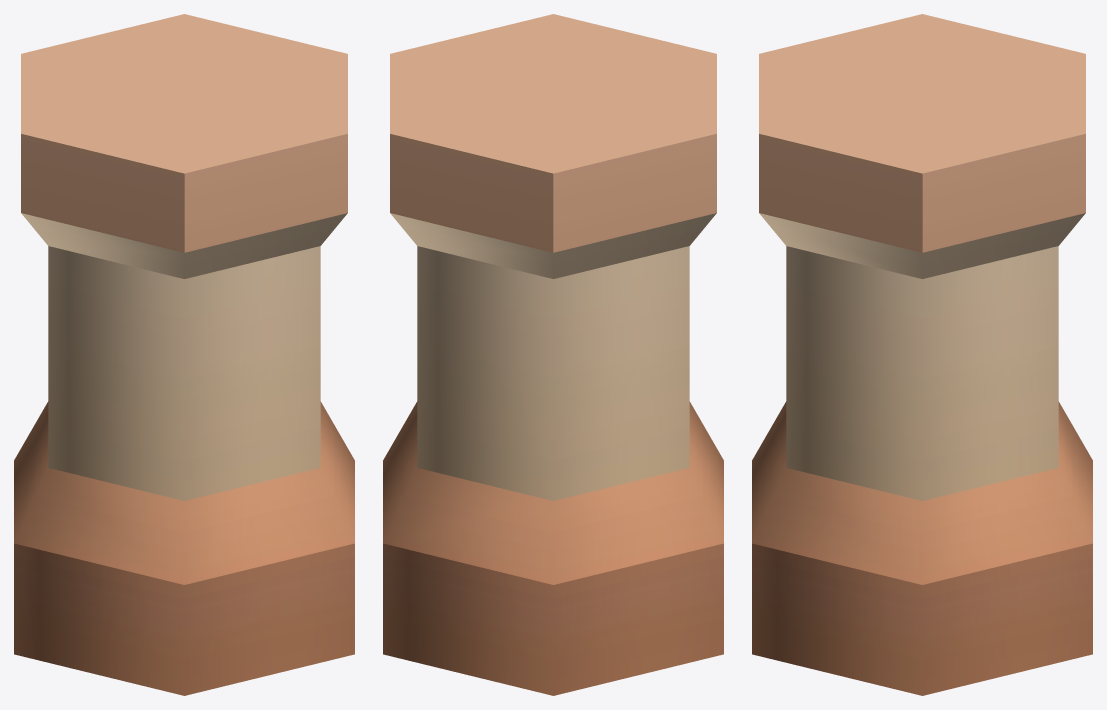
The model's file is tower-hexagon-base.glb.
3 renders of one model, left to right at view 1: azimuth 30°, elevation 25°; view 2: azimuth 150°, elevation 25°; view 3: azimuth 270°, elevation 25°, orthographic.
Visible parts, largest first — view 1: tower-hexagon-base; view 2: tower-hexagon-base; view 3: tower-hexagon-base.
Part boxes in pixels (box(x1,y1,x2,y2)): tower-hexagon-base: box(14, 14, 354, 695); tower-hexagon-base: box(383, 14, 723, 695); tower-hexagon-base: box(752, 14, 1092, 695).
Bounding box in the file's own units: 0.8999 × 1.31 × 0.7794.
1 material, 1 textured.
